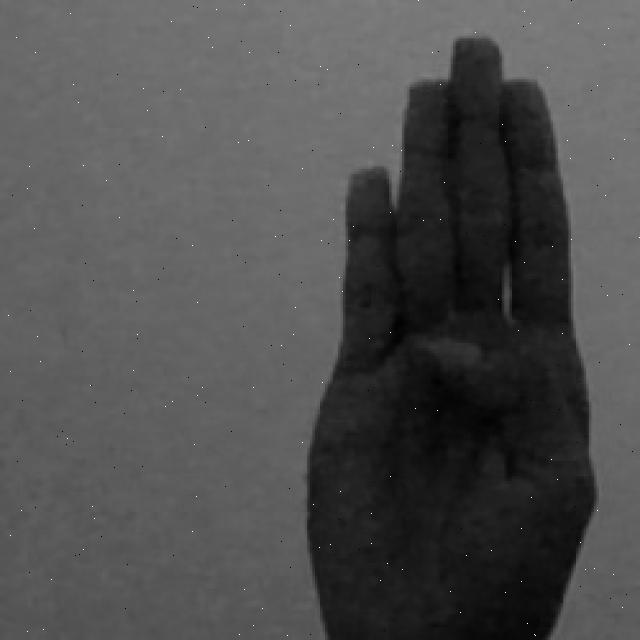B: (305, 33, 597, 640)
